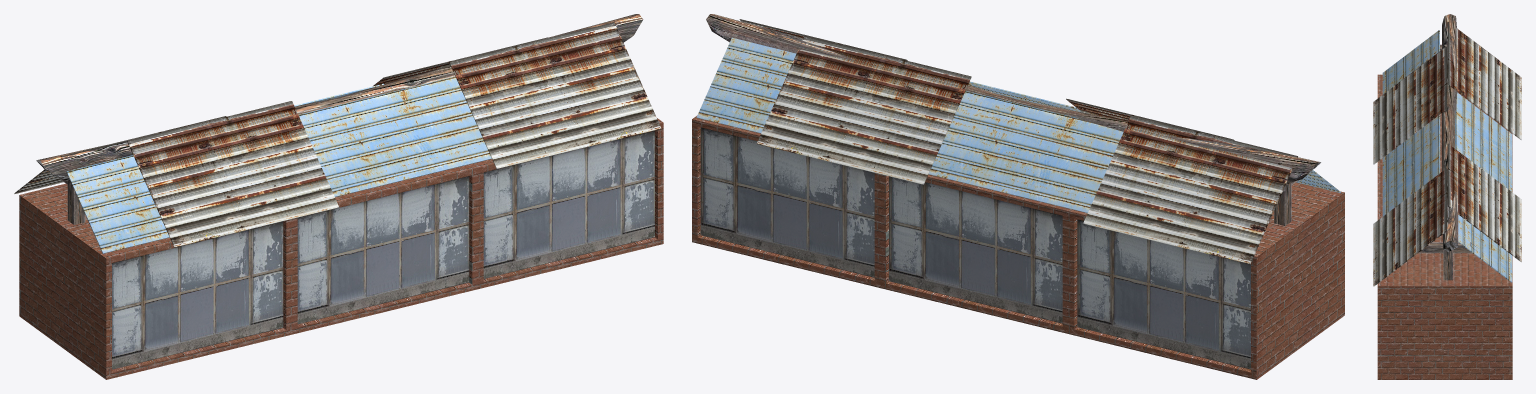
The model's file is building_connector_02.fbx.
3 renders of one model, left to right at view 1: azimuth 30°, elevation 25°; view 2: azimuth 150°, elevation 25°; view 3: azimuth 270°, elevation 25°, orthographic. The views are drawn at different scales.
Parts seen in each view (by area): view 1: building_connector_02; view 2: building_connector_02; view 3: building_connector_02.
Part boxes in pixels (x1=…): building_connector_02: x1=14, y1=14, x2=663, y2=379; building_connector_02: x1=692, y1=14, x2=1344, y2=379; building_connector_02: x1=1373, y1=14, x2=1521, y2=379.
Bounding box in the file's own units: 10.35 × 3.14 × 2.85.
